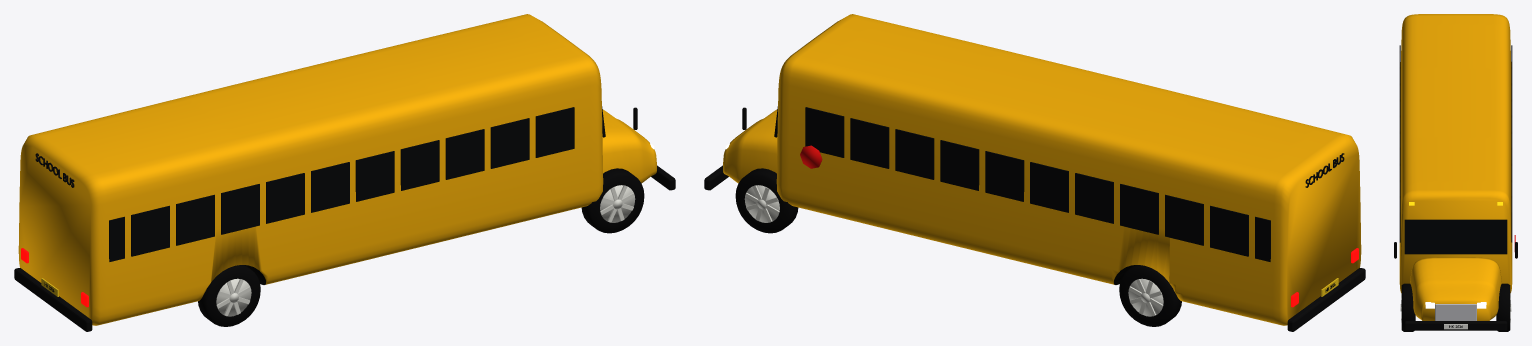
File: school.glb
The picture shows the model from 3 angles, left to right: view 1: azimuth 30°, elevation 25°; view 2: azimuth 150°, elevation 25°; view 3: azimuth 270°, elevation 25°; orthographic projection. The views are drawn at different scales.
Visible parts, largest first — view 1: body, hood, w_tyre.003, w_tyre.001, win.011, win.012, win.013, win.014, win.015, win.019, win.020, win.016 (+6 smaller); view 2: body, hood, w_tyre.002, w_tyre, win.001, win.002, win.003, win.004, win.008, win.009, win.005, win.006 (+6 smaller); view 3: body, hood, screen, bumperF, grille, w_tyre, w_tyre.001, plate.
Part boxes in pixels (x1,y1,x2,y2): body: (18,14,603,325); hood: (602,109,656,183); w_tyre.003: (198,265,260,326); w_tyre.001: (581,168,644,233); win.011: (535,107,574,157); win.012: (490,118,529,168); win.013: (445,129,484,179); win.014: (400,140,439,190); win.015: (355,151,394,201); win.019: (176,194,214,245); win.020: (131,205,169,256); win.016: (311,162,349,212); body: (776,14,1361,325); hood: (723,109,777,183); w_tyre.002: (1119,265,1181,326); w_tyre: (735,168,798,233); win.001: (850,118,889,168); win.002: (895,129,934,179); win.003: (940,140,979,190); win.004: (985,151,1024,201); win.008: (1165,194,1203,245); win.009: (1210,205,1248,256); win.005: (1030,162,1068,212); win.006: (1075,173,1113,223); body: (1399,14,1512,292); hood: (1410,257,1501,320); screen: (1404,219,1507,254); bumperF: (1404,321,1507,330); grille: (1435,304,1476,320); w_tyre: (1496,283,1510,331); w_tyre.001: (1401,283,1415,331); plate: (1444,324,1467,329).
Bounding box in the file's own units: 10.84 × 3.09 × 2.66.
